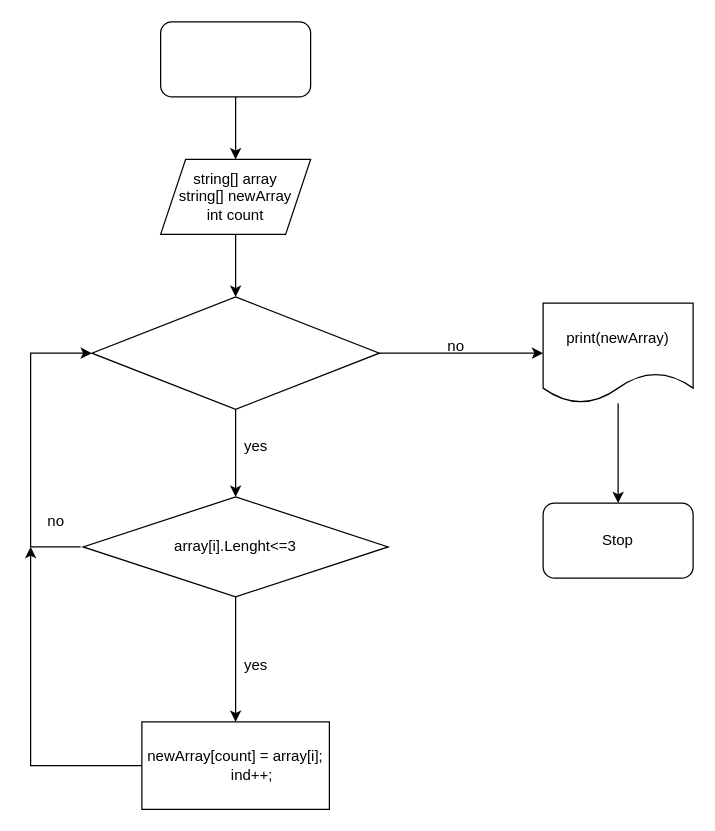
The diagram is 715 pixels wide and 831 high, and some of its shapes have lost their labels. The shapes that lost their labels are listed below. From the top down, each one's centre as x and y in pixels, then its label:
At (x=235, y=59): "Start".
At (x=235, y=352): "i < array.Length".
